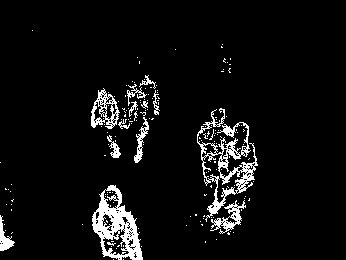person: (220, 120, 257, 235), (197, 107, 234, 215), (91, 183, 142, 260), (90, 88, 122, 159), (124, 83, 149, 165)
